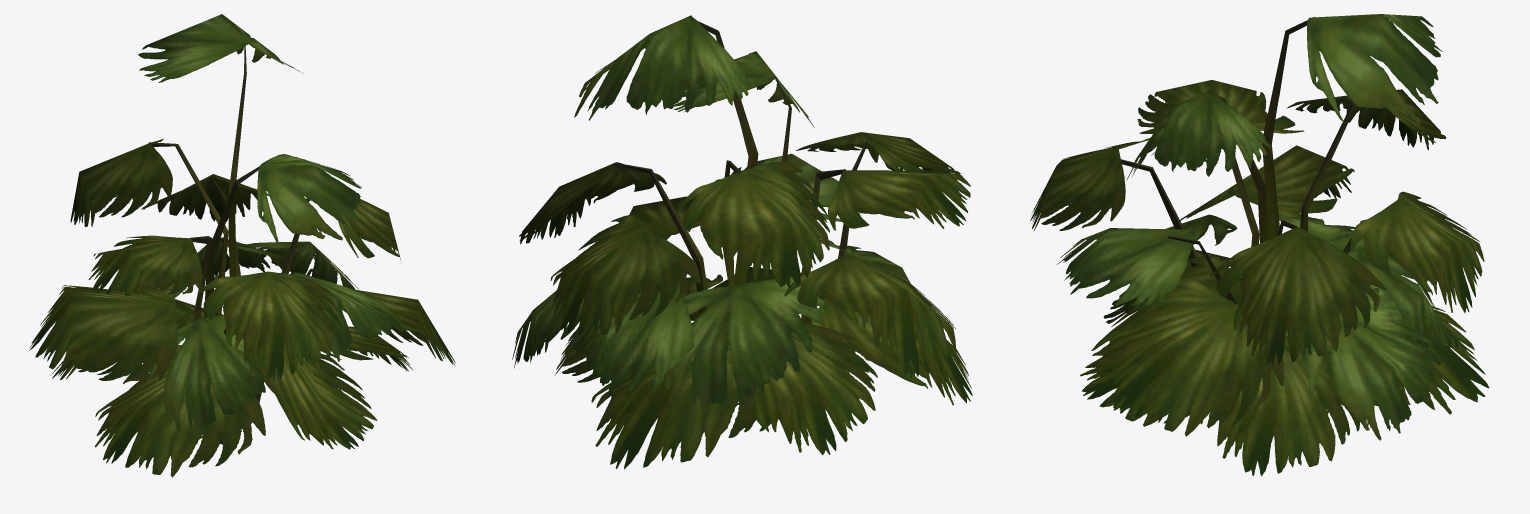
The model's file is 极光世界__晨光平原_神风教分坛_植物_03.FBX.
3 renders of one model, left to right at view 1: azimuth 30°, elevation 25°; view 2: azimuth 150°, elevation 25°; view 3: azimuth 270°, elevation 25°, orthographic. The views are drawn at different scales.
Parts seen in each view (by area): view 1: DrawCall_0044, DrawCall_0043; view 2: DrawCall_0044, DrawCall_0043; view 3: DrawCall_0044, DrawCall_0043.
Boxes of the visible parts, x1=… form: DrawCall_0044: x1=29, y1=14, x2=455, y2=477; DrawCall_0043: x1=148, y1=42, x2=322, y2=444; DrawCall_0044: x1=512, y1=15, x2=972, y2=469; DrawCall_0043: x1=614, y1=17, x2=867, y2=324; DrawCall_0044: x1=1030, y1=14, x2=1489, y2=475; DrawCall_0043: x1=1120, y1=17, x2=1366, y2=304.
Bounding box in the file's own units: 5.82 × 5.54 × 6.08.
